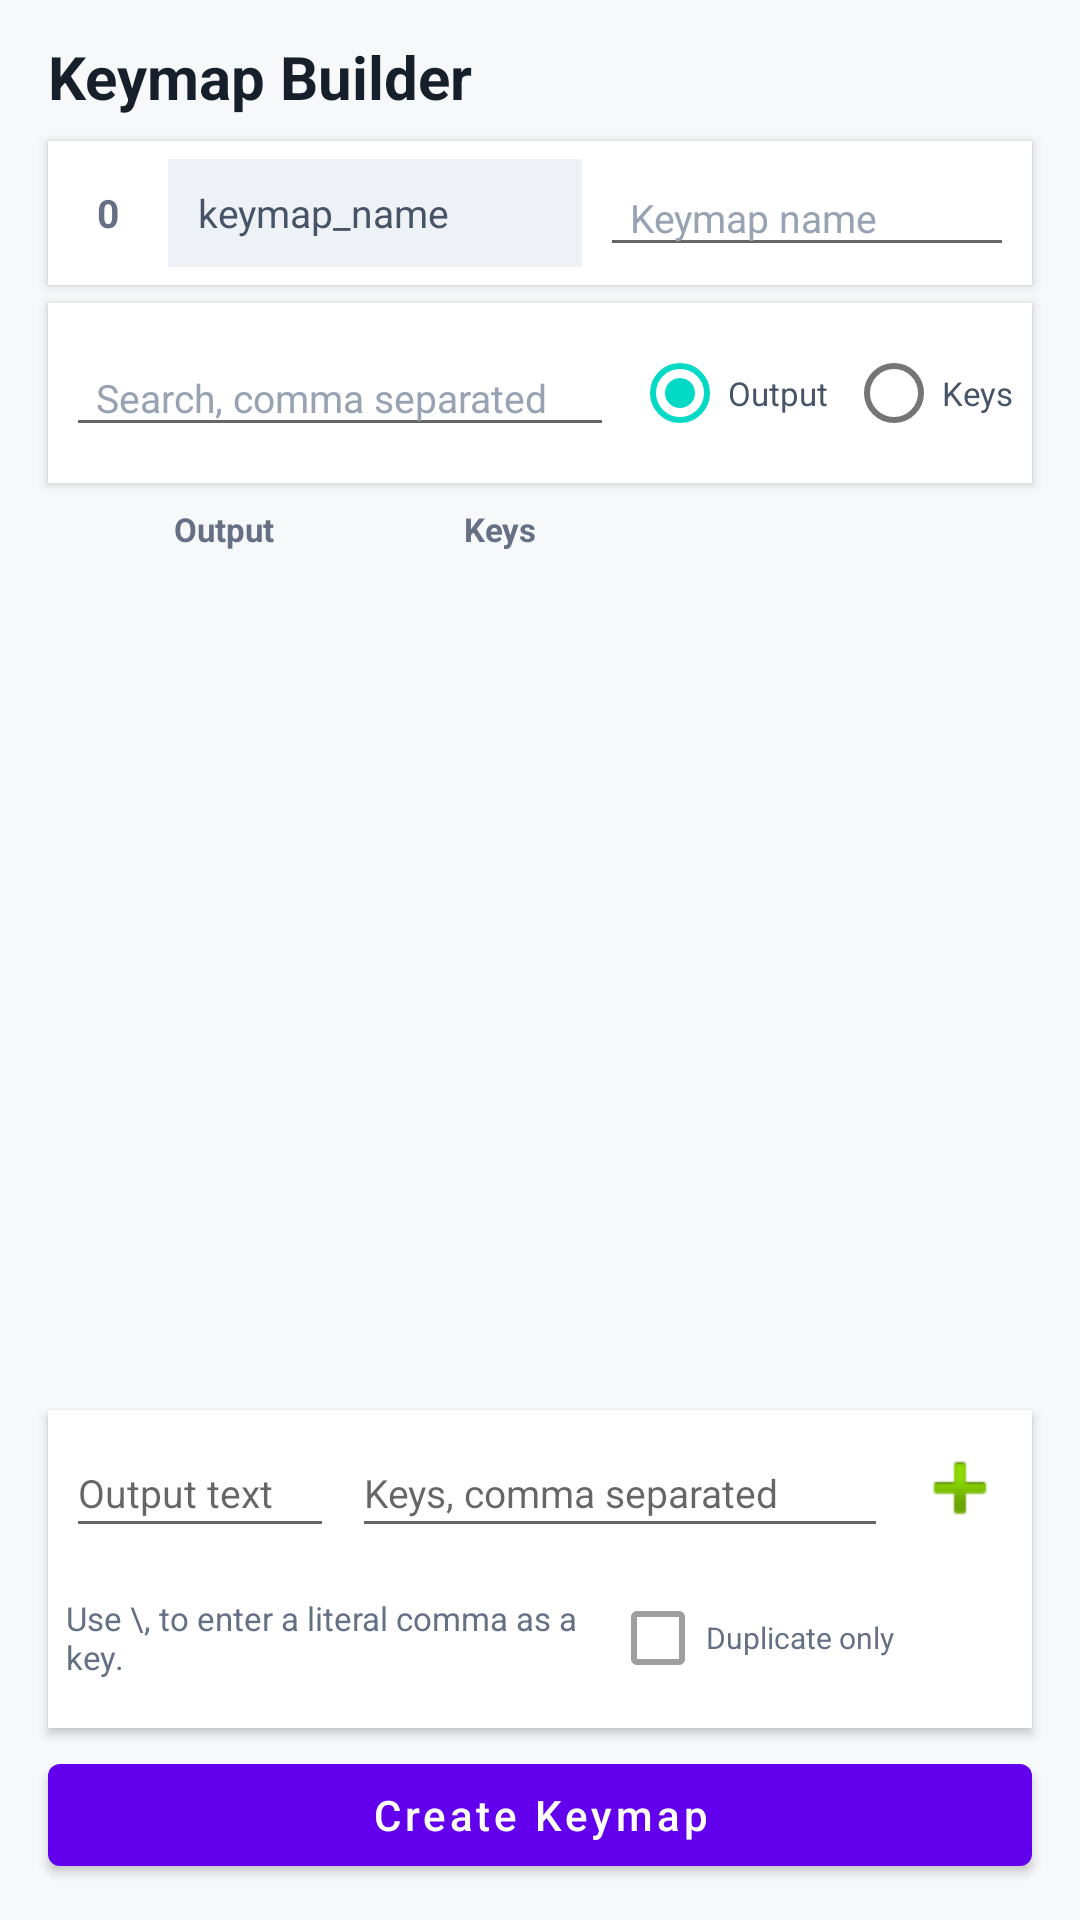

Named icons in this screenshot (1080x1920) and their centers, (x=x, y=y):
Add row: (x=960, y=1488)
